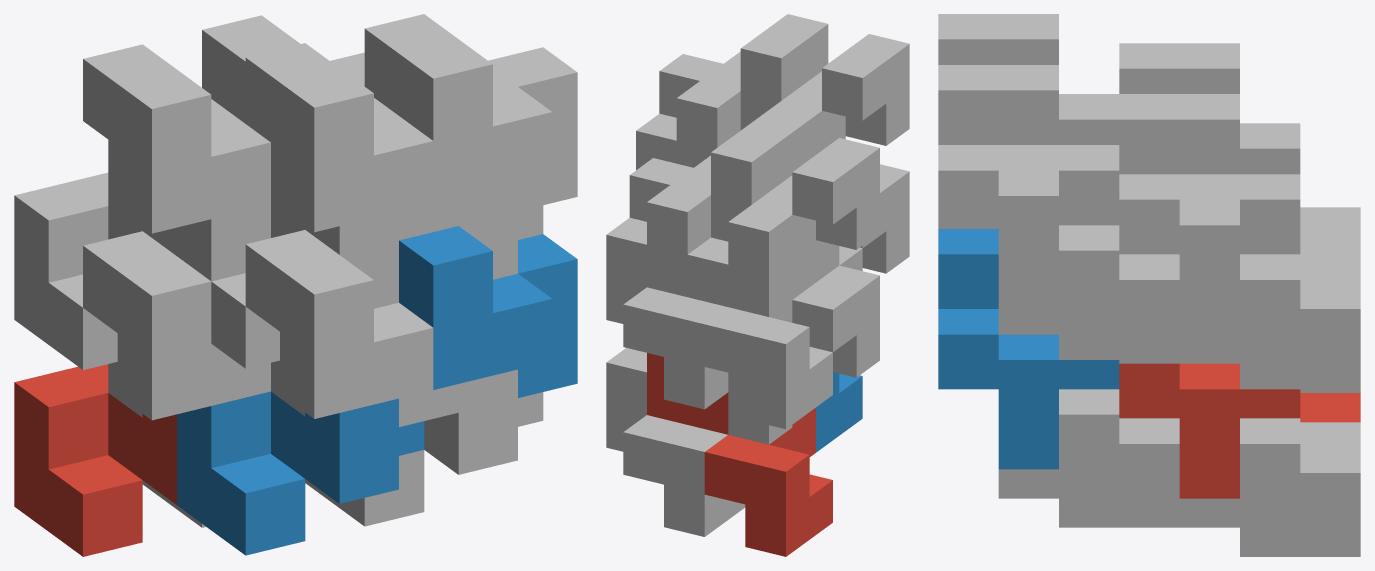
File: tiling.obj
3 views of the same model, side by side, from view 1: azimuth 30°, elevation 25°; view 2: azimuth 150°, elevation 25°; view 3: azimuth 270°, elevation 25° (orthographic). The views are drawn at different scales.
Visible parts, largest first — view 1: copy_2_domain_8, copy_1_domain_2, copy_2_domain_4, copy_2_domain_2, copy_2_domain_3, copy_1_domain_1, copy_2_domain_6, copy_2_domain_1, copy_1_domain_3, copy_1_domain_4, copy_1_domain_6, copy_2_domain_7 (+1 smaller); view 2: copy_2_domain_3, copy_1_domain_3, copy_2_domain_7, copy_1_domain_1, copy_2_domain_8, copy_2_domain_4, copy_1_domain_5, copy_1_domain_7, copy_2_domain_1, copy_2_domain_2, copy_1_domain_2, copy_1_domain_8 (+2 smaller); view 3: copy_2_domain_7, copy_2_domain_8, copy_2_domain_6, copy_1_domain_5, copy_1_domain_7, copy_1_domain_6, copy_1_domain_8, copy_2_domain_5, copy_2_domain_3, copy_2_domain_4, copy_1_domain_3, copy_1_domain_1.
Boxes of the visible parts, x1=… form: copy_2_domain_8: x1=364, y1=14, x2=577, y2=211; copy_1_domain_2: x1=177, y1=391, x2=424, y2=555; copy_2_domain_4: x1=245, y1=43, x2=458, y2=240; copy_2_domain_2: x1=245, y1=230, x2=458, y2=426; copy_2_domain_3: x1=83, y1=44, x2=270, y2=233; copy_1_domain_1: x1=14, y1=364, x2=176, y2=556; copy_2_domain_6: x1=399, y1=226, x2=577, y2=397; copy_2_domain_1: x1=83, y1=231, x2=270, y2=420; copy_1_domain_3: x1=14, y1=172, x2=176, y2=369; copy_1_domain_4: x1=177, y1=204, x2=398, y2=368; copy_1_domain_6: x1=305, y1=369, x2=543, y2=526; copy_2_domain_7: x1=202, y1=15, x2=364, y2=141; copy_2_domain_3: x1=711, y1=138, x2=879, y2=316; copy_1_domain_3: x1=687, y1=237, x2=832, y2=429; copy_2_domain_7: x1=629, y1=118, x2=798, y2=296; copy_1_domain_1: x1=687, y1=392, x2=832, y2=556; copy_2_domain_8: x1=659, y1=14, x2=828, y2=167; copy_2_domain_4: x1=740, y1=34, x2=909, y2=167; copy_1_domain_5: x1=606, y1=348, x2=745, y2=536; copy_1_domain_7: x1=606, y1=217, x2=728, y2=409; copy_2_domain_1: x1=728, y1=265, x2=879, y2=444; copy_2_domain_2: x1=860, y1=164, x2=909, y2=273; copy_1_domain_2: x1=816, y1=372, x2=862, y2=452; copy_1_domain_8: x1=636, y1=113, x2=676, y2=169; copy_2_domain_7: x1=1119, y1=94, x2=1300, y2=334; copy_2_domain_8: x1=938, y1=65, x2=1119, y2=305; copy_2_domain_6: x1=938, y1=229, x2=1119, y2=469; copy_1_domain_5: x1=1179, y1=418, x2=1360, y2=556; copy_1_domain_7: x1=1179, y1=254, x2=1360, y2=392; copy_1_domain_6: x1=998, y1=389, x2=1179, y2=527; copy_1_domain_8: x1=998, y1=225, x2=1179, y2=363; copy_2_domain_5: x1=1119, y1=363, x2=1300, y2=498; copy_2_domain_3: x1=1119, y1=43, x2=1300, y2=174; copy_2_domain_4: x1=938, y1=14, x2=1119, y2=144; copy_1_domain_3: x1=1300, y1=207, x2=1360, y2=257; copy_1_domain_1: x1=1300, y1=393, x2=1360, y2=422.
Bounding box in the file's own units: 6 × 9 × 7.
